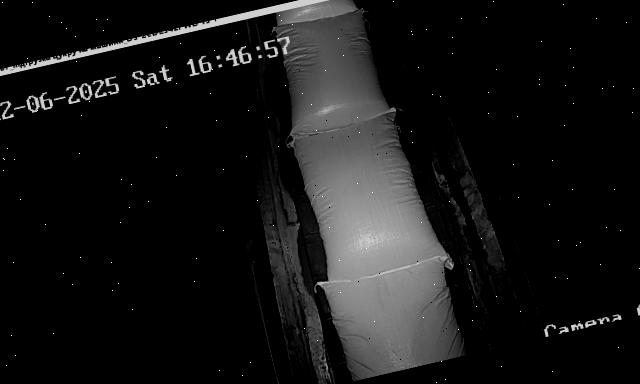bag: (290, 103, 454, 298), (316, 253, 469, 384), (270, 5, 396, 138), (273, 0, 358, 28)
